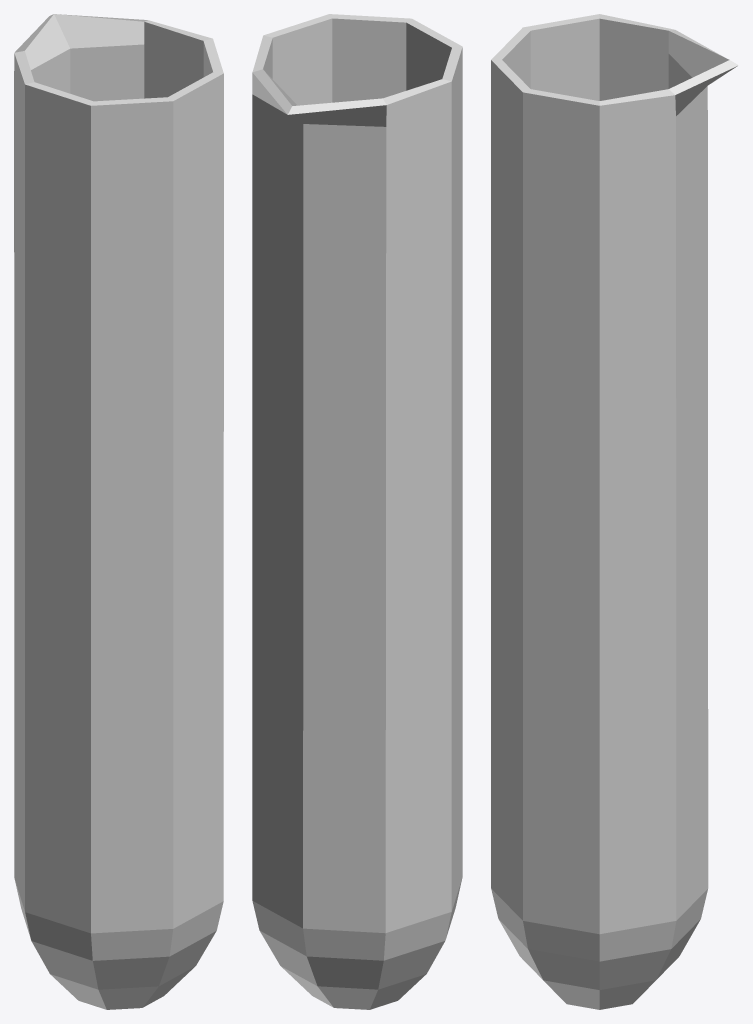
The model's file is Alcohol.fbx.
The picture shows the model from 3 angles, left to right: view 1: azimuth 30°, elevation 25°; view 2: azimuth 150°, elevation 25°; view 3: azimuth 270°, elevation 25°; orthographic projection.
Visible parts, largest first — view 1: Cylinder.033; view 2: Cylinder.033; view 3: Cylinder.033.
Part boxes in pixels (x1=…): Cylinder.033: x1=14, y1=14, x2=223, y2=1009; Cylinder.033: x1=252, y1=14, x2=462, y2=1009; Cylinder.033: x1=491, y1=14, x2=738, y2=1009.
Bounding box in the file's own units: 9.77 × 46.17 × 11.15.
2 materials, 2 textured.
